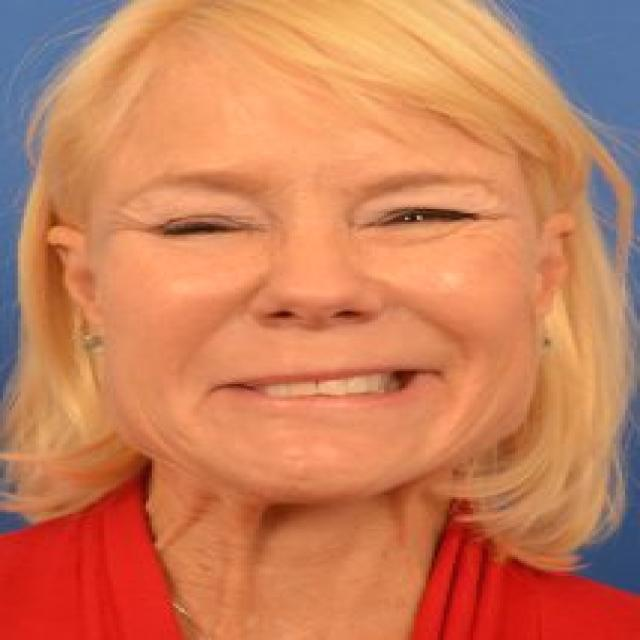stroke_face: (40, 22, 579, 502)
